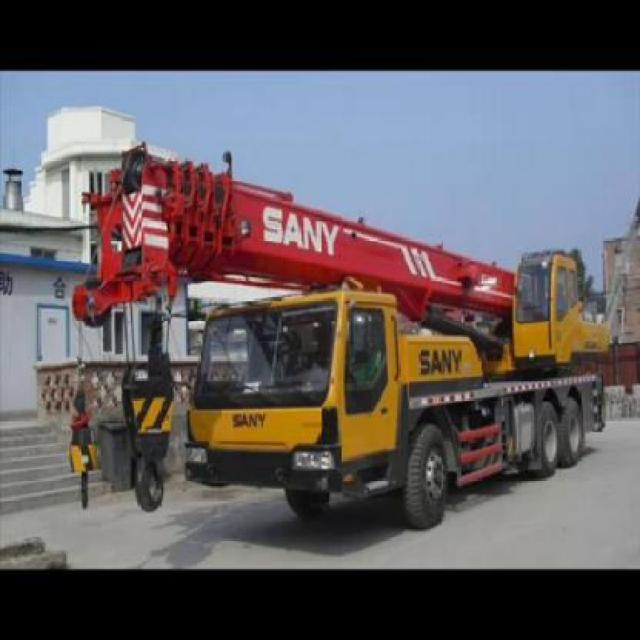Mobile Crane: (78, 145, 608, 522)
